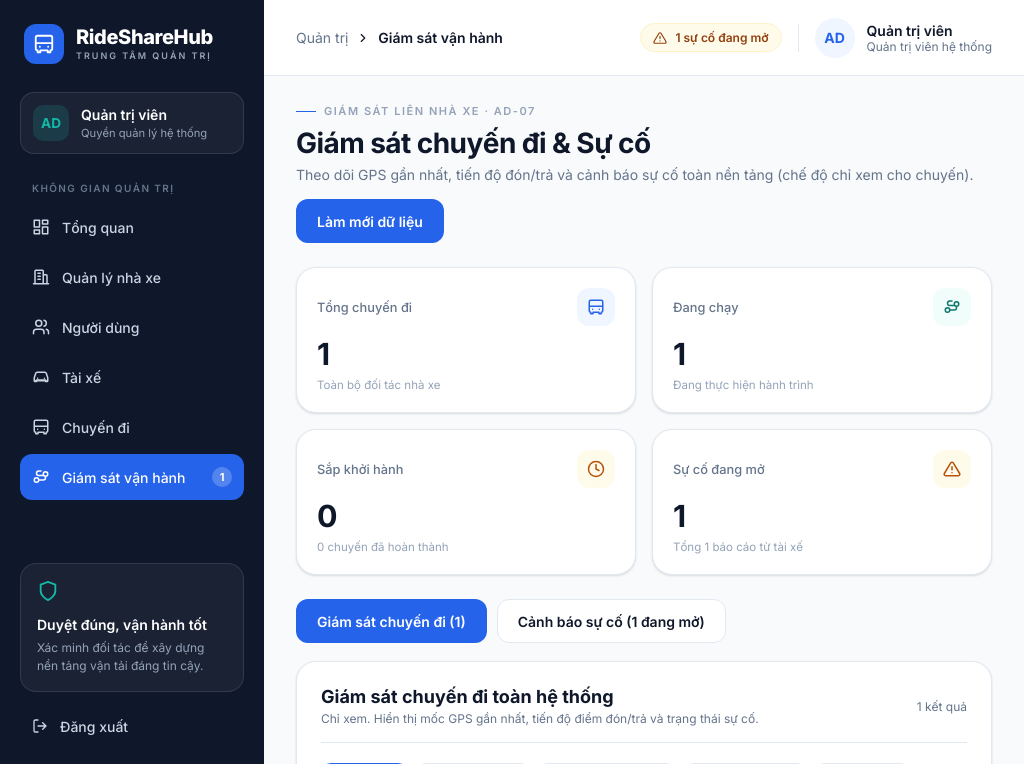
Test case: SP4-P2-02: Trip Monitoring & Incident Pages (Company & Admin) › renders AdminMonitoringPage KPIs and switches to system-wide incidents view
The image size is (1024, 764).
Expected: the heading "Giám sát chuyến đi & Sự cố" is shown, x1=296 y1=126 x2=651 y2=160
Click the button "Cảnh báo sự cố (1 đang mở)": (611, 621) x1=497 y1=599 x2=726 y2=643
(page scrolled)
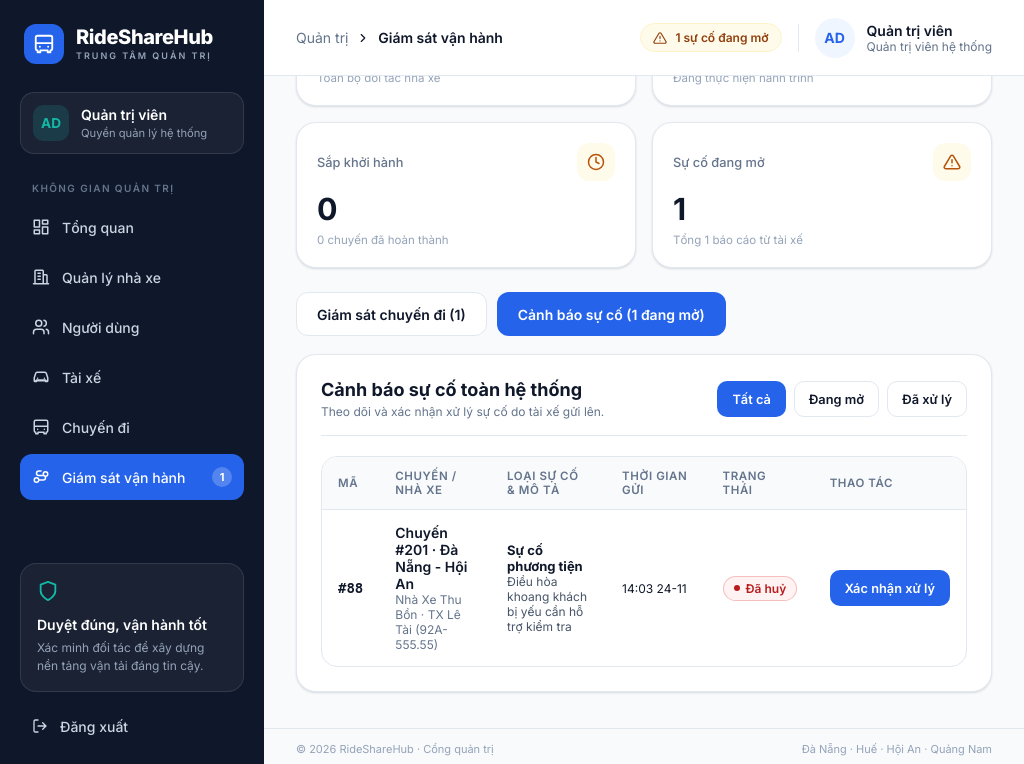
Now the text "Sự cố phương tiện" is shown, box x1=507 y1=542 x2=590 y2=574
Now the text "Điều hòa khoang khách bị yếu cần hỗ trợ kiểm tra" is shown, box x1=507 y1=574 x2=590 y2=634
